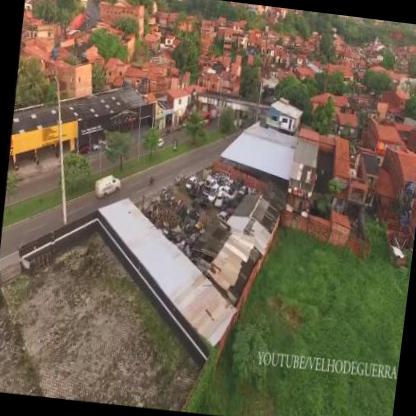lixo: (144, 191, 206, 254), (195, 165, 239, 213)
